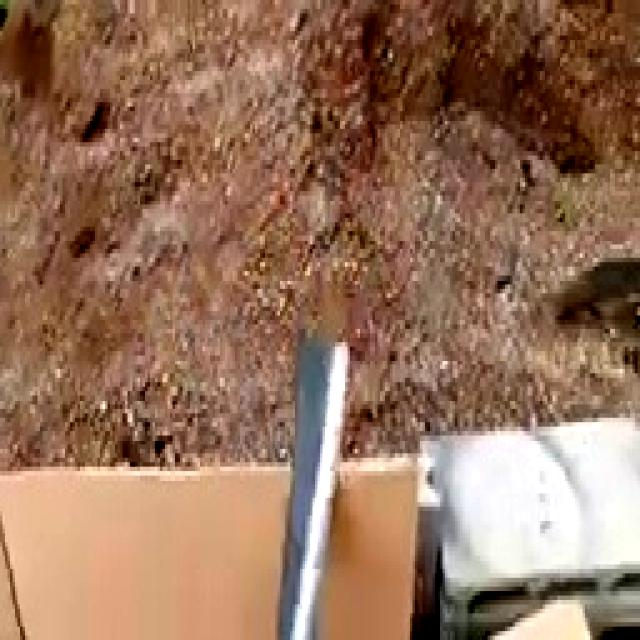eto: (284, 334, 350, 636)
